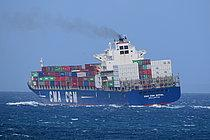Ship: (25, 30, 186, 110)
